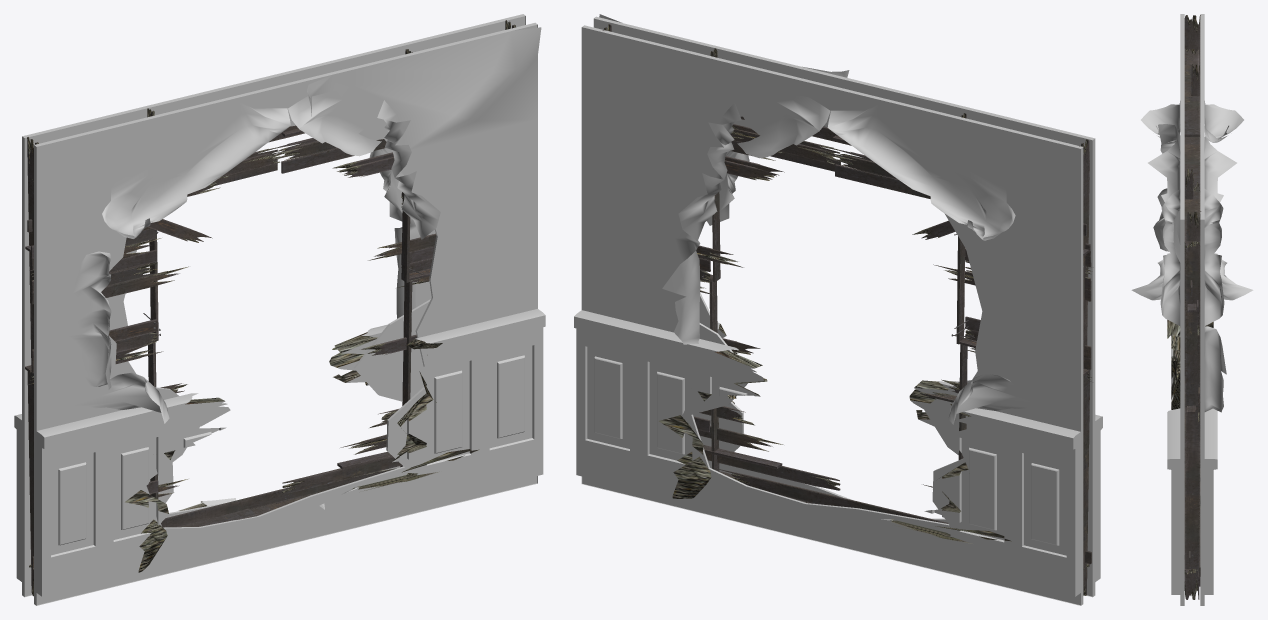
The model's file is SM_Wall400D_DS.FBX.
3 views of the same model, side by side, from view 1: azimuth 30°, elevation 25°; view 2: azimuth 150°, elevation 25°; view 3: azimuth 270°, elevation 25° (orthographic). The views are drawn at different scales.
Visible parts, largest first — view 1: SM_Wall400D_DS_LOD0; view 2: SM_Wall400D_DS_LOD0; view 3: SM_Wall400D_DS_LOD0.
Boxes of the visible parts, <box> form: SM_Wall400D_DS_LOD0: <box>14,14,545,605</box>; SM_Wall400D_DS_LOD0: <box>574,14,1102,605</box>; SM_Wall400D_DS_LOD0: <box>1131,14,1253,605</box>.
Size of what is drawn, in the model's own units: 407 by 350 by 101.
